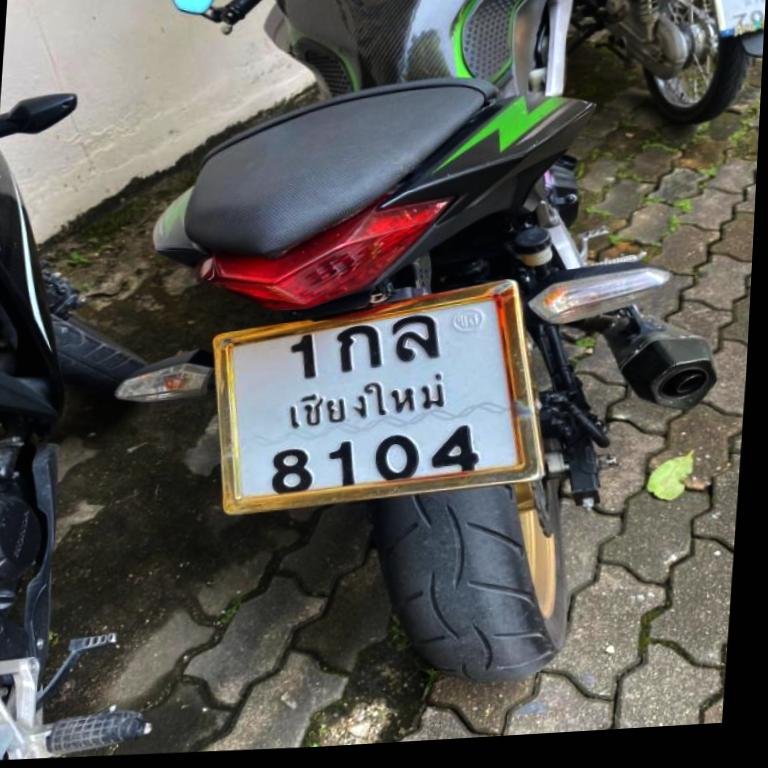license plate: (198, 271, 572, 526), (707, 0, 768, 46)
